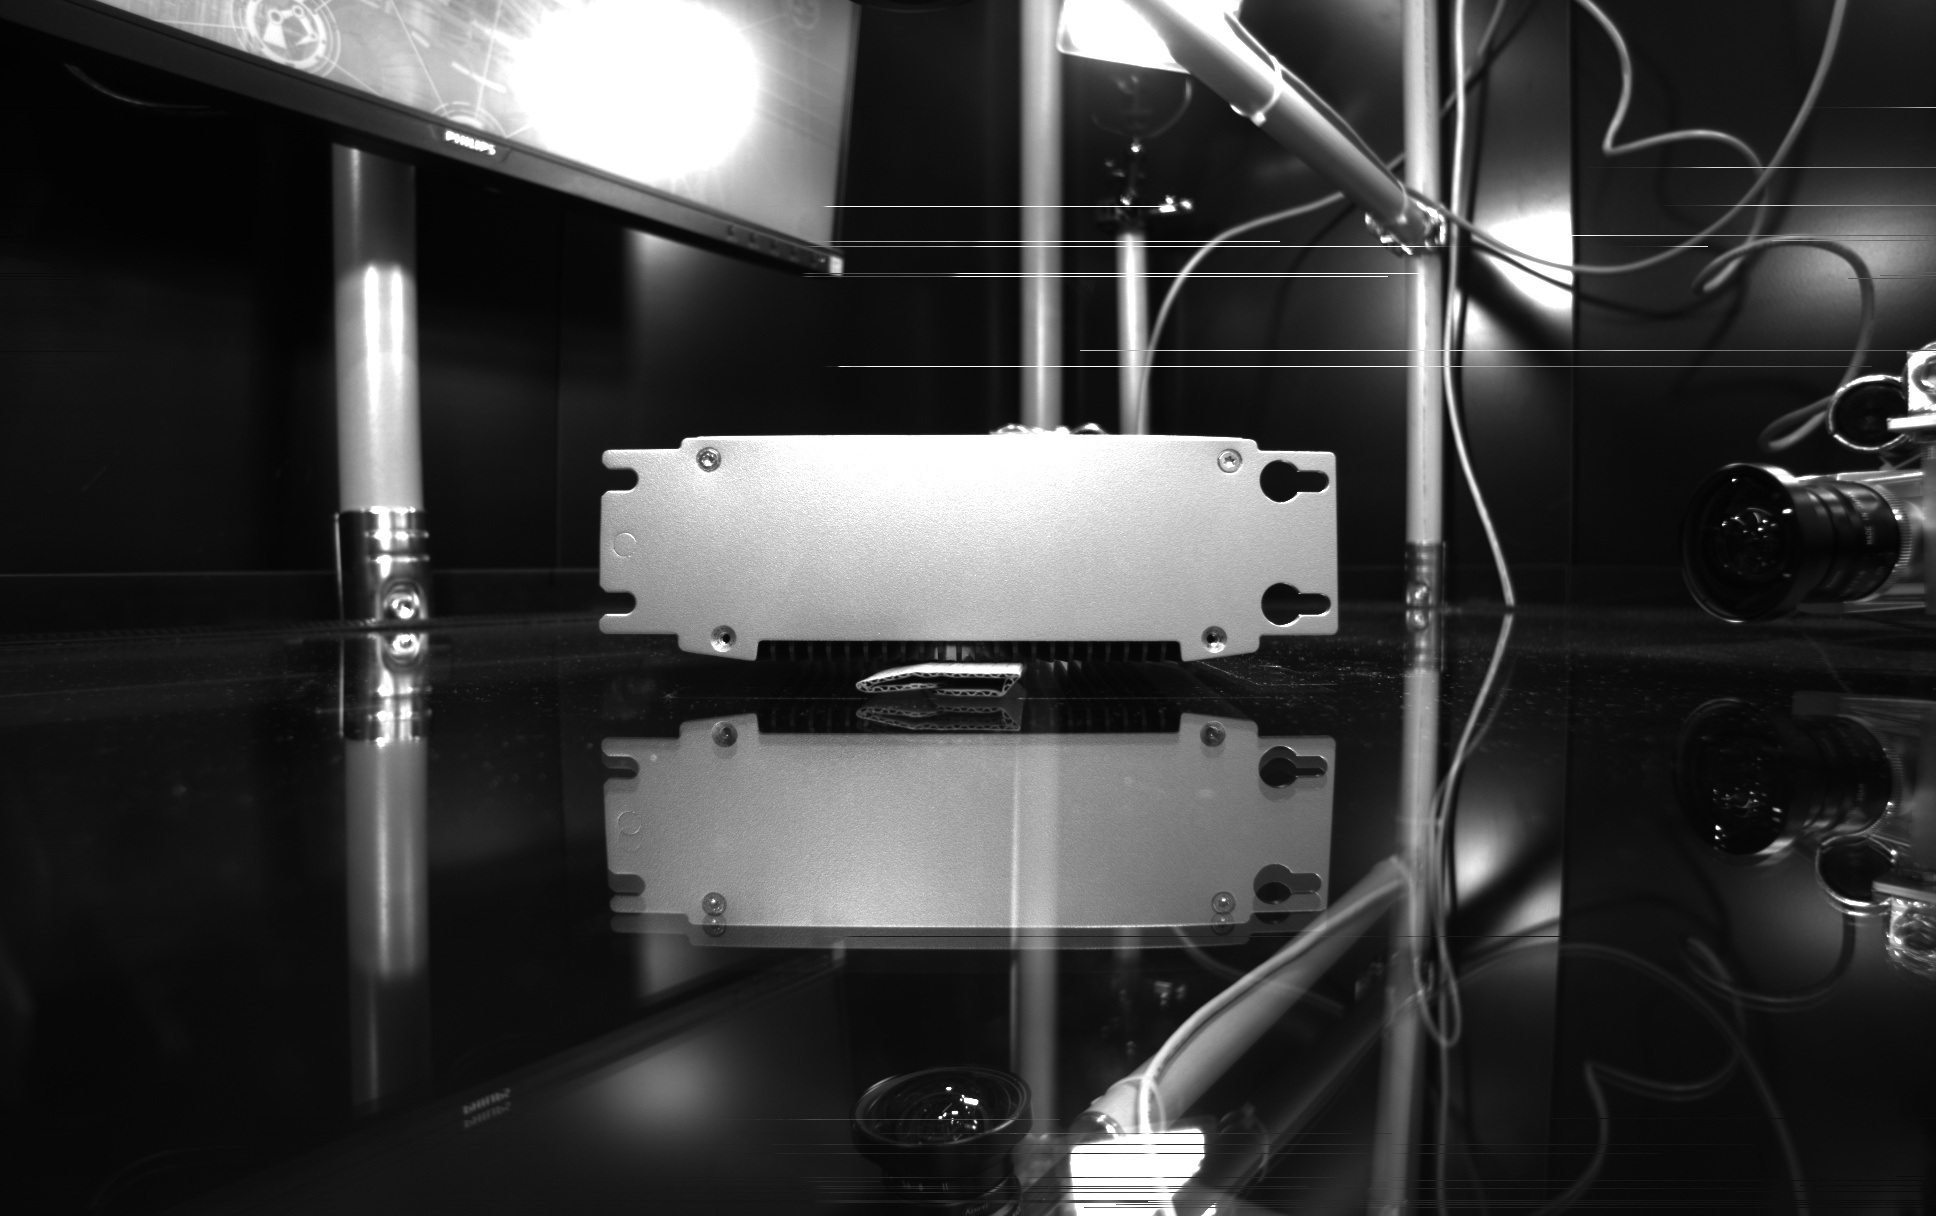CamBack: (572, 410, 1363, 664)
Loch: (1194, 621, 1234, 660), (705, 619, 742, 658)
Schraube: (1210, 443, 1247, 483), (689, 443, 727, 479)
Schraube_gespiegelt: (693, 885, 734, 943), (1205, 885, 1241, 947)
